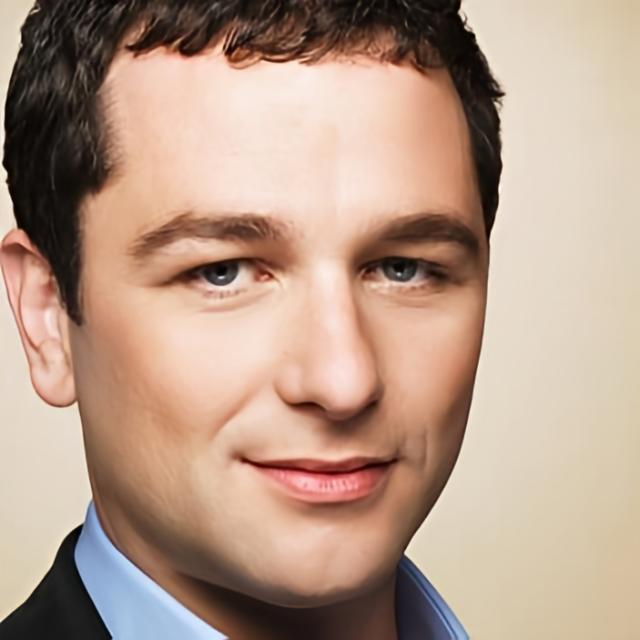content: (80, 0, 486, 608)
